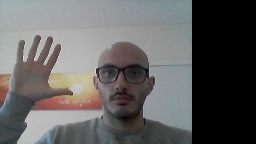Mano_aperta: (7, 30, 74, 105)
